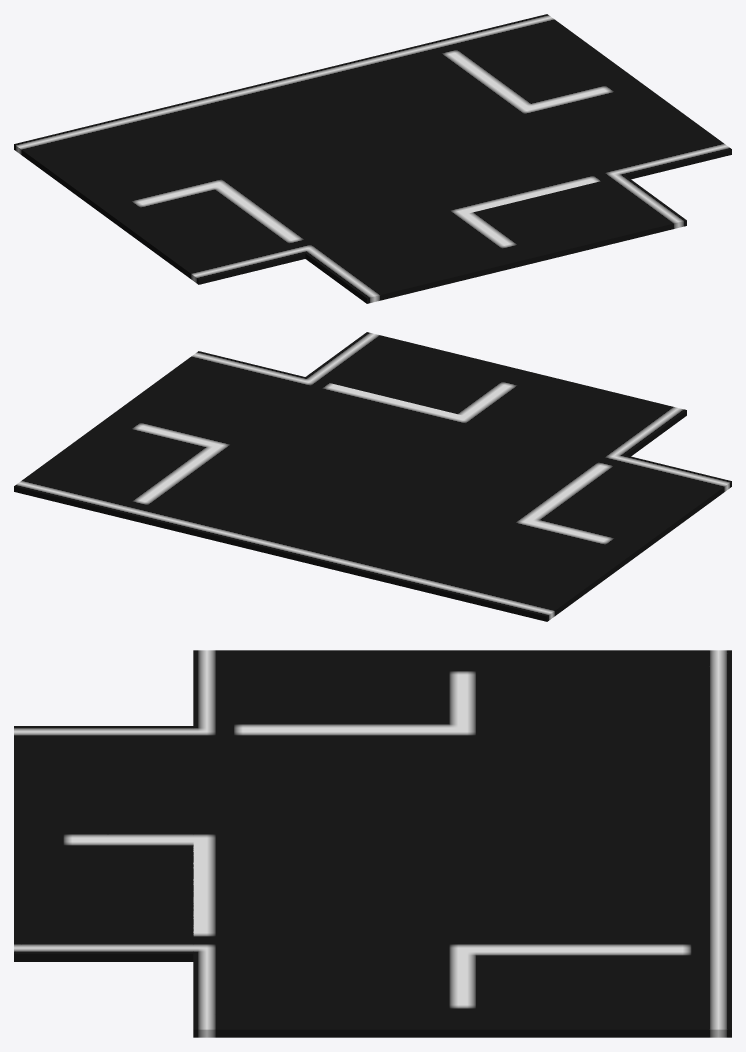
Rendered from Carretera9.fbx.
The picture shows the model from 3 angles, top to bottom: view 1: azimuth 30°, elevation 25°; view 2: azimuth 150°, elevation 25°; view 3: azimuth 270°, elevation 25°; orthographic projection. The views are drawn at different scales.
Visible parts, largest first — view 1: Carretera9; view 2: Carretera9; view 3: Carretera9.
Part boxes in pixels (<box>): Carretera9: <box>14,14,731,303</box>; Carretera9: <box>14,332,731,621</box>; Carretera9: <box>14,650,731,1037</box>.
Size of the model in its own units: 100 by 1 by 80.
